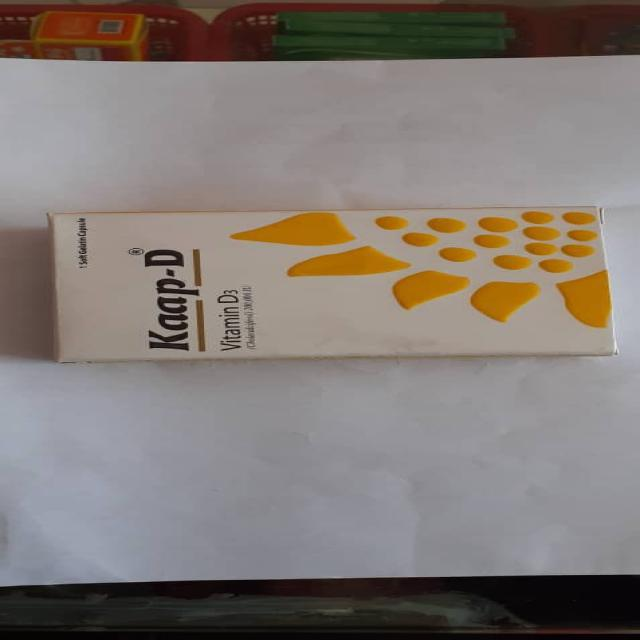drug-name: (138, 249, 202, 354)
